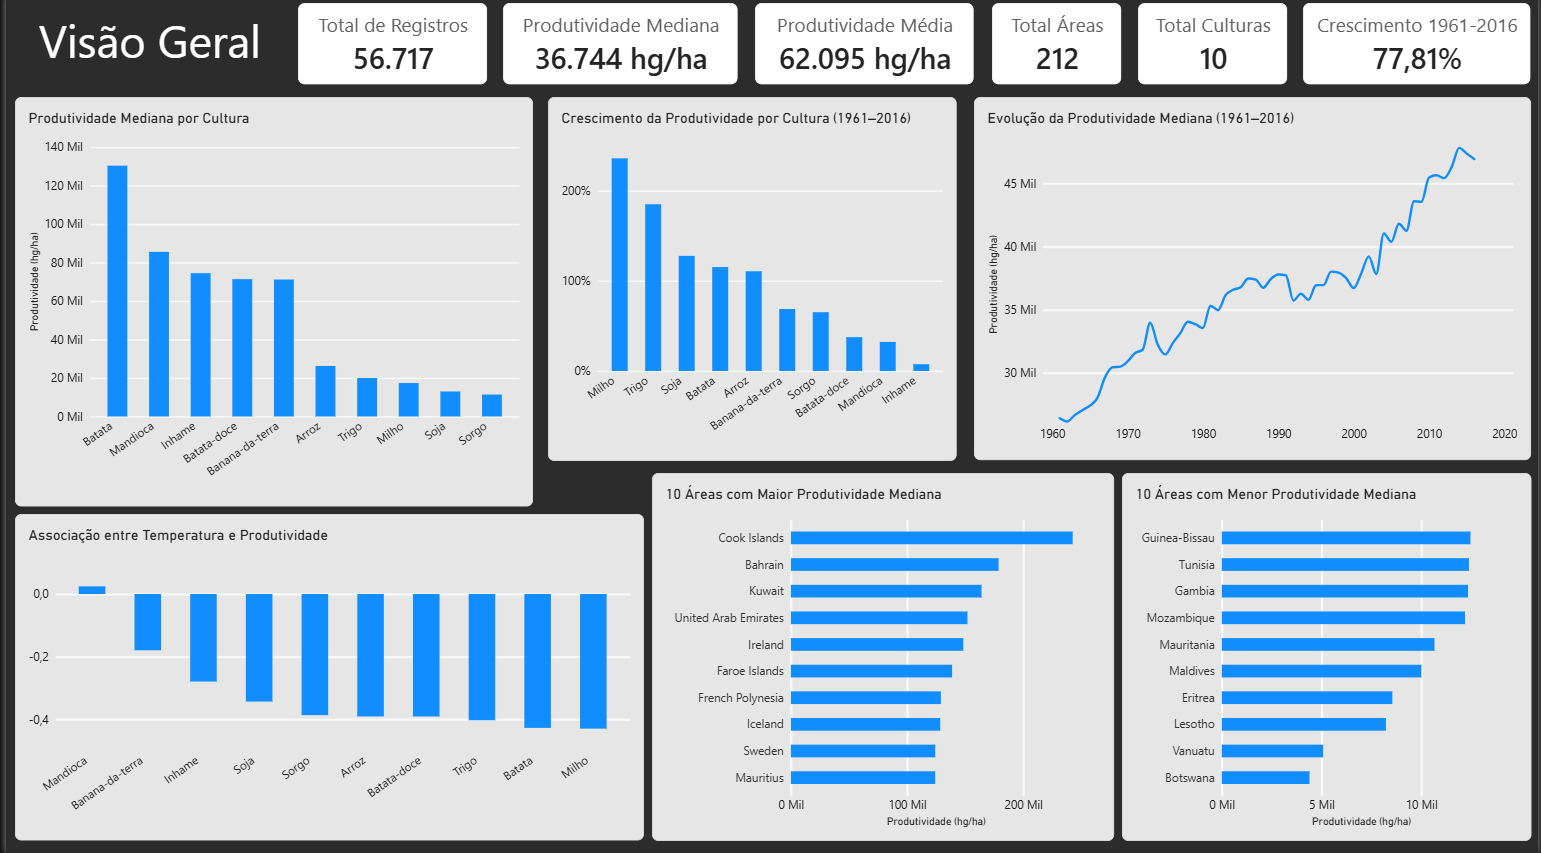

What the dashboard file says about the page in this screenshot:
{"tool":"powerbi","page":{"name":"Visão Geral ","canvas":[1920,1080],"ordinal":0},"visuals":[{"type":"cardVisual","fields":{"Data":["yield_integrado.Total Registros"]},"box":[366.3,12.1,237,102.3],"z":0},{"type":"cardVisual","fields":{"Data":["yield_integrado.Produtividade Mediana"]},"box":[622.1,12.1,294.9,102.3],"z":1},{"type":"cardVisual","fields":{"Data":["yield_integrado.Produtividade Média"]},"box":[938.6,12.1,274.7,102.3],"z":2},{"type":"cardVisual","fields":{"Data":["yield_integrado.Total Áreas"]},"box":[1234.9,12.1,162.9,102.3],"z":3},{"type":"cardVisual","fields":{"Data":["yield_integrado.Total Culturas"]},"box":[1418,12.1,187.2,102.3],"z":4},{"type":"cardVisual","fields":{"Data":["yield_integrado.Crescimento 1961-2016"]},"box":[1625.4,12.1,285.5,102.3],"z":11},{"type":"clusteredColumnChart","title":"Produtividade Mediana por Cultura","fields":{"Category":["Dim_Cultura.Cultura"],"Y":["yield_integrado.Produtividade Mediana"]},"box":[10.8,130.6,649.1,513.1],"z":13},{"type":"lineChart","title":"Evolução da Produtividade Mediana (1961–2016)","fields":{"Category":["Dim_Ano.Year"],"Y":["yield_integrado.Produtividade Mediana"]},"box":[1213.3,130.6,697.5,454.6],"z":14},{"type":"clusteredColumnChart","title":"Crescimento da Produtividade por Cultura (1961–2016)","fields":{"Category":["Dim_Cultura.Cultura"],"Y":["yield_integrado.Crescimento 1961-2016"]},"box":[679.1,130.3,512.4,456.1],"z":15},{"type":"clusteredBarChart","title":"10 Áreas com Menor Produtividade Mediana","fields":{"Category":["Dim_Area.Area"],"Y":["yield_integrado.Produtividade Mediana"]},"box":[1397.8,601.9,513.1,460.5],"z":16},{"type":"clusteredBarChart","title":"10 Áreas com Maior Produtividade Mediana","fields":{"Category":["Dim_Area.Area"],"Y":["yield_integrado.Produtividade Mediana"]},"box":[809.3,601.9,579.1,460.5],"z":17},{"type":"clusteredColumnChart","title":"Associação entre Temperatura e Produtividade","fields":{"Category":["Dim_Cultura.Cultura"],"Y":["Sum(indicadores_associacao.correlacao_temperatura)"]},"box":[10.8,653.1,787.8,409.4],"z":18},{"type":"textbox","box":[41.7,21.5,324.5,92.9],"z":19}]}

Visuals, with their boxes in screenshot pixels (x1, y1, x2, y2), scaled from the page's 1920x1080 canvas onto the 1541x853 screenshot:
cardVisual - yield_integrado.Total Registros: Rect(294, 10, 484, 90)
cardVisual - yield_integrado.Produtividade Mediana: Rect(499, 10, 736, 90)
cardVisual - yield_integrado.Produtividade Média: Rect(753, 10, 974, 90)
cardVisual - yield_integrado.Total Áreas: Rect(991, 10, 1122, 90)
cardVisual - yield_integrado.Total Culturas: Rect(1138, 10, 1288, 90)
cardVisual - yield_integrado.Crescimento 1961-2016: Rect(1305, 10, 1534, 90)
"Produtividade Mediana por Cultura" clusteredColumnChart: Rect(9, 103, 530, 508)
"Evolução da Produtividade Mediana (1961–2016)" lineChart: Rect(974, 103, 1534, 462)
"Crescimento da Produtividade por Cultura (1961–2016)" clusteredColumnChart: Rect(545, 103, 956, 463)
"10 Áreas com Menor Produtividade Mediana" clusteredBarChart: Rect(1122, 475, 1534, 839)
"10 Áreas com Maior Produtividade Mediana" clusteredBarChart: Rect(650, 475, 1114, 839)
"Associação entre Temperatura e Produtividade" clusteredColumnChart: Rect(9, 516, 641, 839)
textbox: Rect(33, 17, 294, 90)
